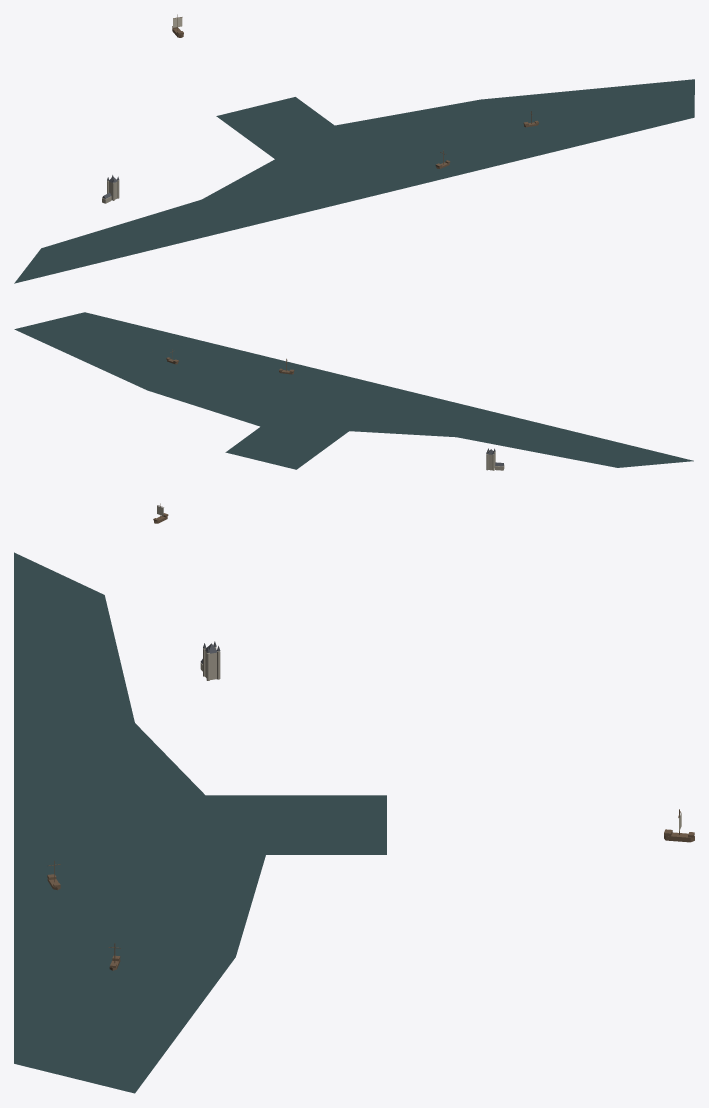
File: calais_siege.glb
3 renders of one model, top to bottom at view 1: azimuth 30°, elevation 25°; view 2: azimuth 150°, elevation 25°; view 3: azimuth 270°, elevation 25°, orthographic. The views are drawn at different scales.
Parts seen in each view (by area): view 1: ground, landmarks; view 2: ground, landmarks; view 3: ground, landmarks.
Part boxes in pixels (bbox=[...]): ground: bbox=[14, 79, 694, 283]; landmarks: bbox=[102, 14, 538, 203]; ground: bbox=[14, 312, 693, 469]; landmarks: bbox=[153, 349, 504, 523]; ground: bbox=[14, 552, 386, 1093]; landmarks: bbox=[47, 641, 694, 970].
Size of the model in its own units: 1270 by 37.4 by 675.
